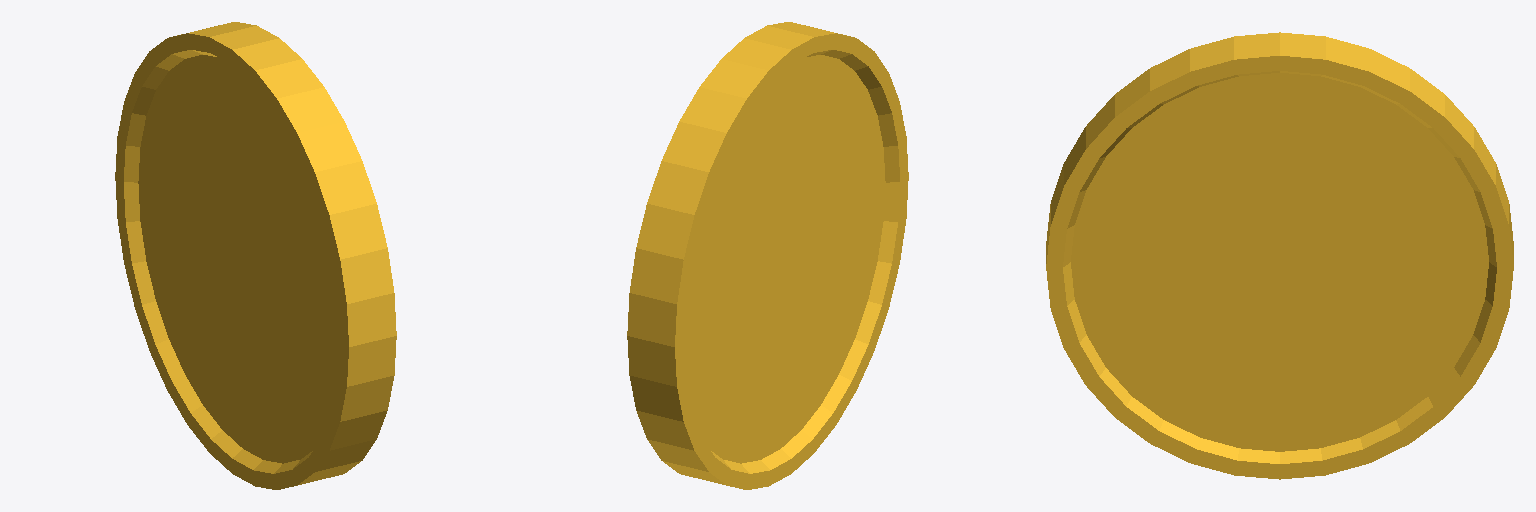
The picture shows the model from 3 angles: view 1: azimuth 30°, elevation 25°; view 2: azimuth 150°, elevation 25°; view 3: azimuth 270°, elevation 25°; orthographic projection.
Visible parts, largest first — view 1: Coin.001; view 2: Coin.001; view 3: Coin.001.
Part boxes in pixels (left/top/right/bottom): Coin.001: left=115, top=22, right=396, bottom=489; Coin.001: left=627, top=22, right=908, bottom=489; Coin.001: left=1046, top=32, right=1513, bottom=479.
Bounding box in the file's own units: 0.235 × 2 × 2.
1 materials, 1 textured.